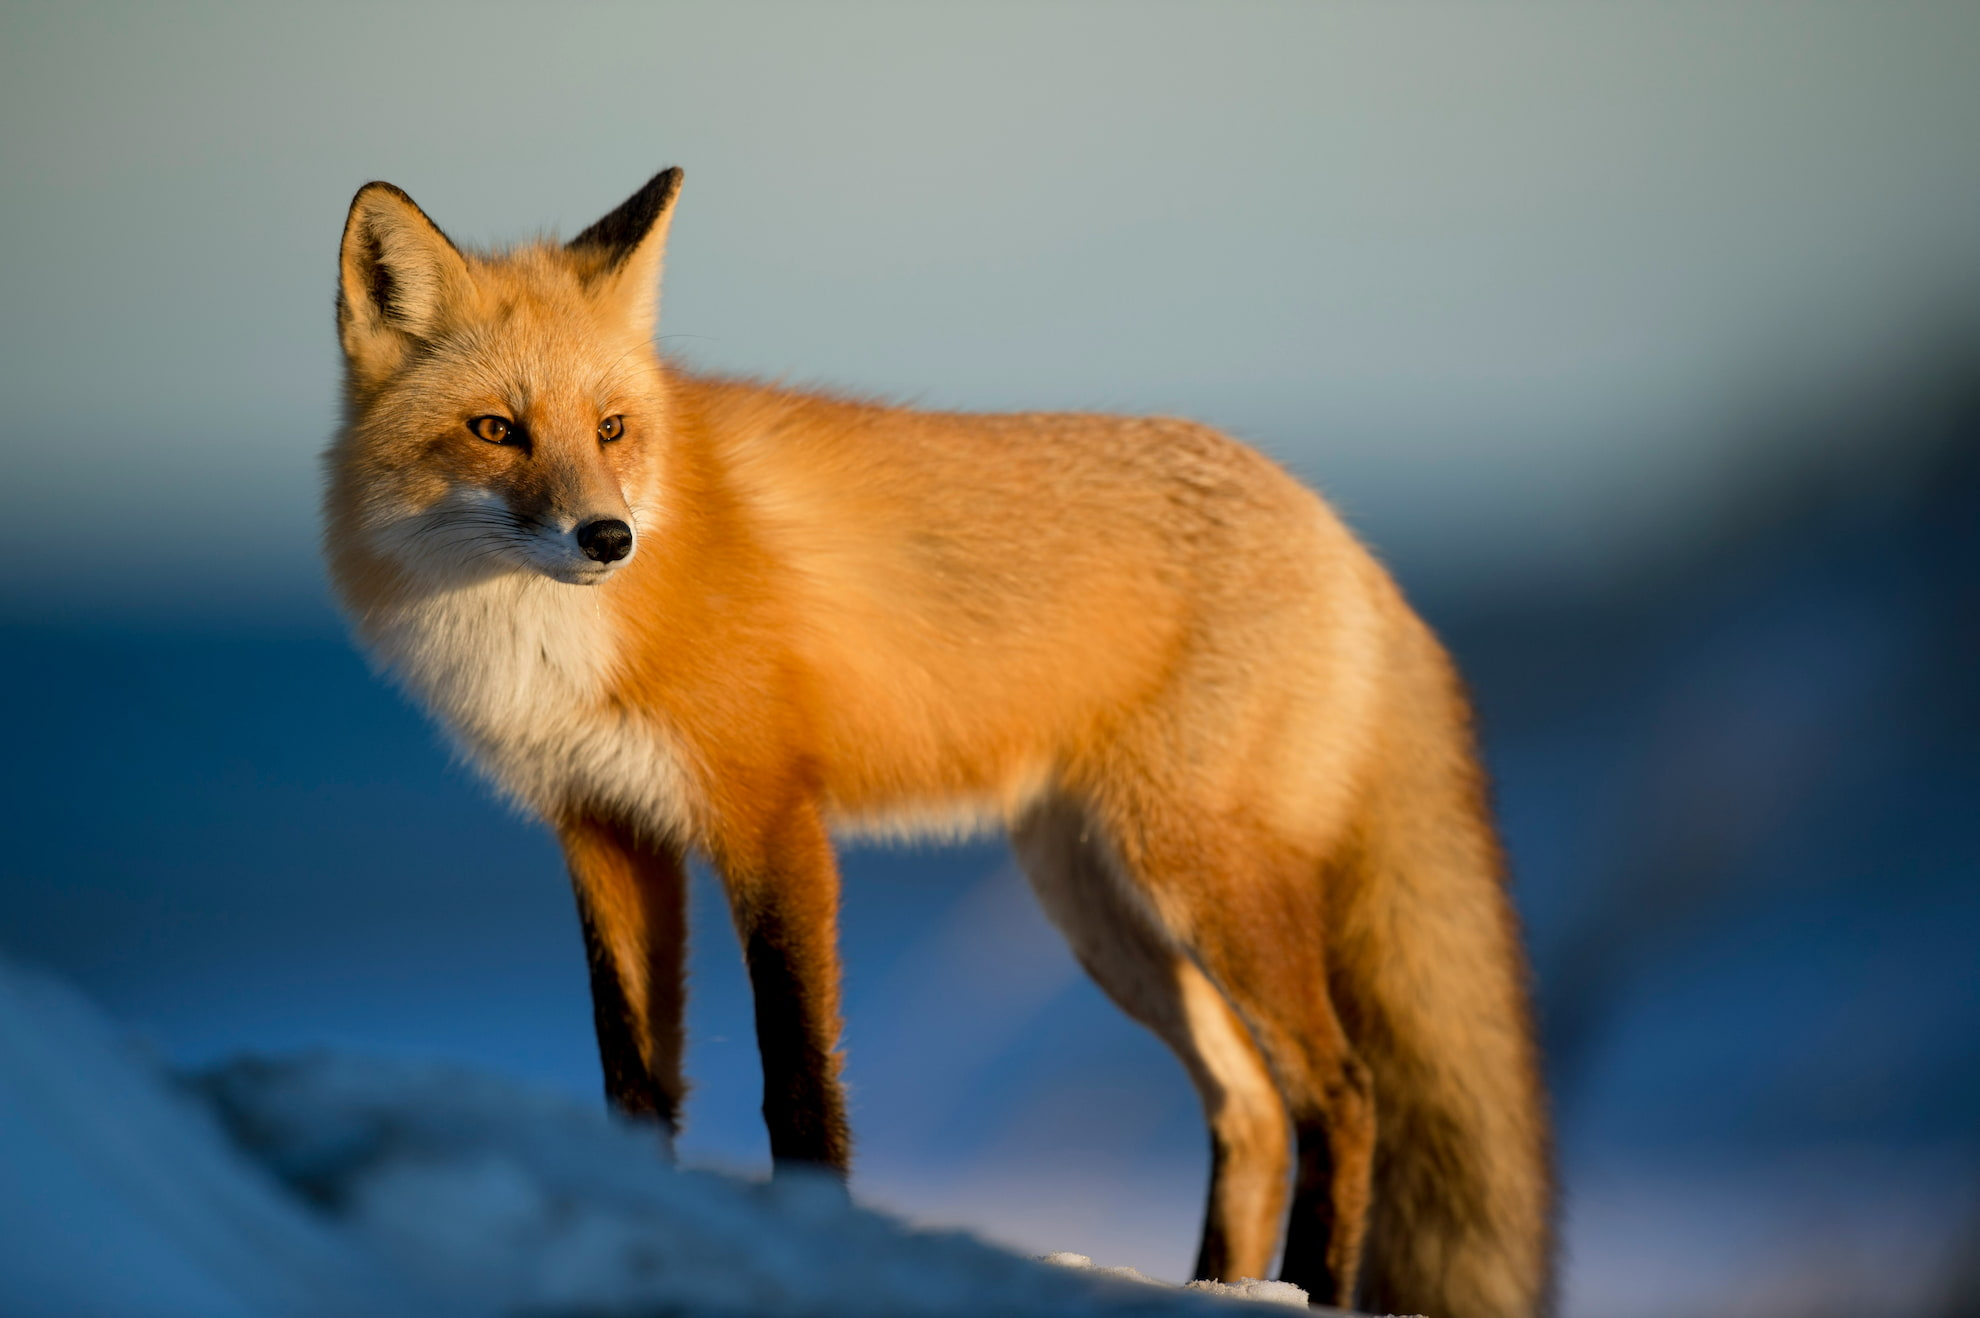fox: (319, 174, 1593, 1318)
